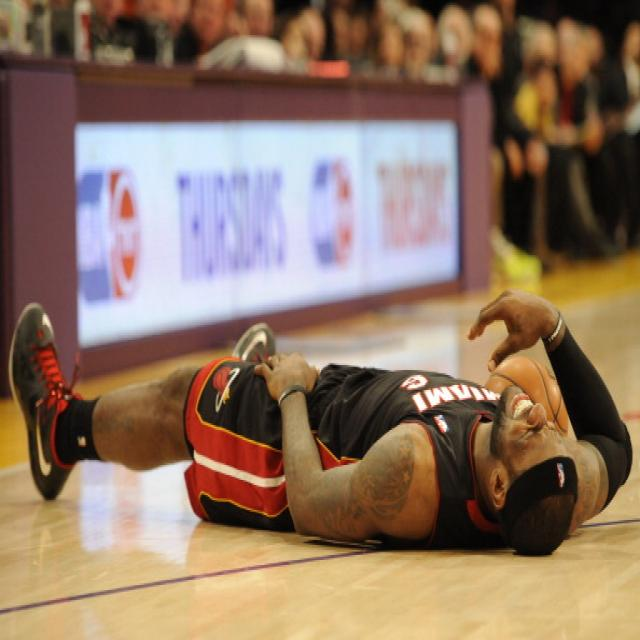10-: (0, 0, 639, 573)
down: (0, 253, 634, 562)
